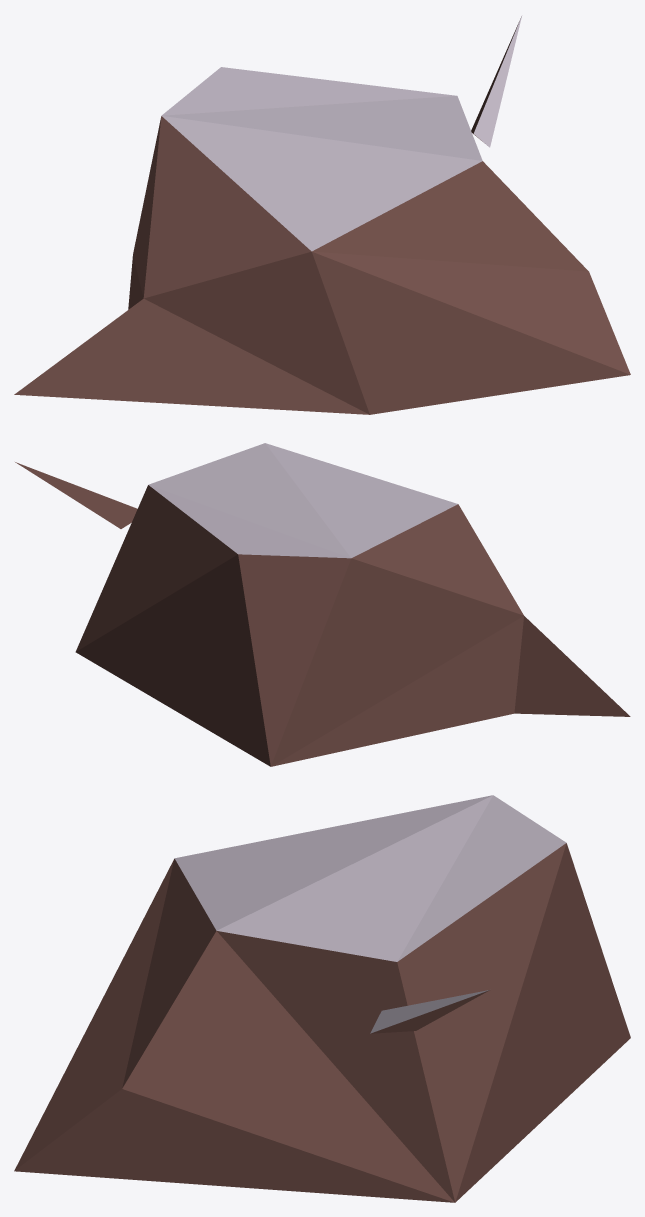
Rendered from TreeStump_Snow.lod3.glb.
The picture shows the model from 3 angles, top to bottom: view 1: azimuth 30°, elevation 25°; view 2: azimuth 150°, elevation 25°; view 3: azimuth 270°, elevation 25°; orthographic projection. The views are drawn at different scales.
Visible parts, largest first — view 1: TreeStump_Snow; view 2: TreeStump_Snow; view 3: TreeStump_Snow.
Part boxes in pixels (bbox=[...]): TreeStump_Snow: bbox=[14, 15, 630, 414]; TreeStump_Snow: bbox=[15, 443, 630, 766]; TreeStump_Snow: bbox=[14, 795, 630, 1202].
Size of the model in its own units: 1.26 by 0.4209 by 0.961.
